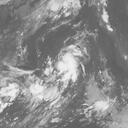cyclone: (54, 43, 86, 83)
